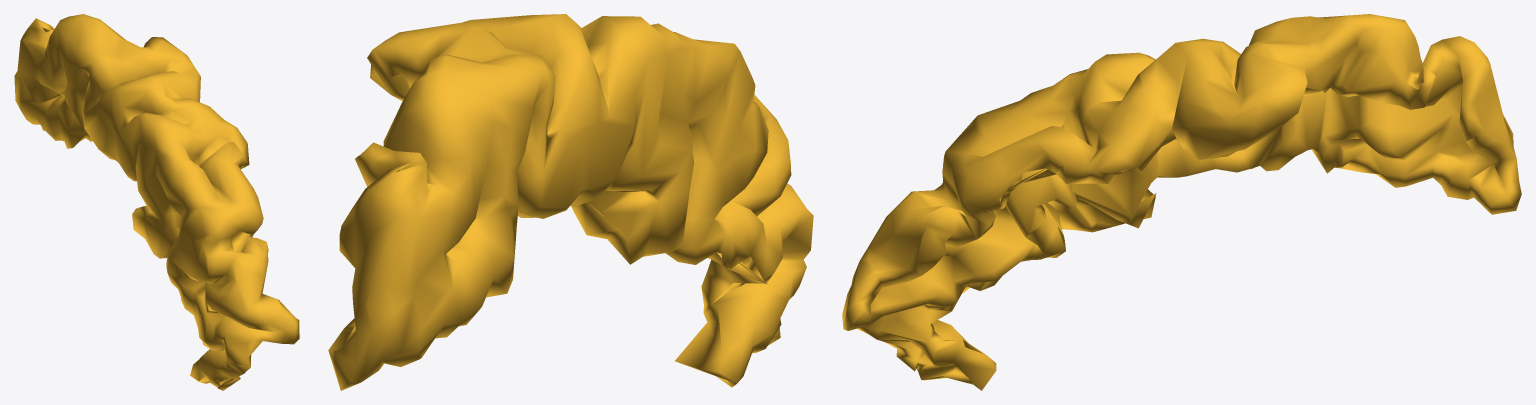
File: nervoso-superior-frontal-gyrus-l.glb
3 views of the same model, side by side, from view 1: azimuth 30°, elevation 25°; view 2: azimuth 150°, elevation 25°; view 3: azimuth 270°, elevation 25° (orthographic). The views are drawn at different scales.
Visible parts, largest first — view 1: Superior frontal gyrus.l; view 2: Superior frontal gyrus.l; view 3: Superior frontal gyrus.l.
Boxes of the visible parts, left/top/right/bottom form: Superior frontal gyrus.l: left=14, top=14, right=299, bottom=390; Superior frontal gyrus.l: left=328, top=14, right=813, bottom=390; Superior frontal gyrus.l: left=842, top=14, right=1521, bottom=390.
Size of the model in its own units: 0.0281 by 0.0711 by 0.1146.
